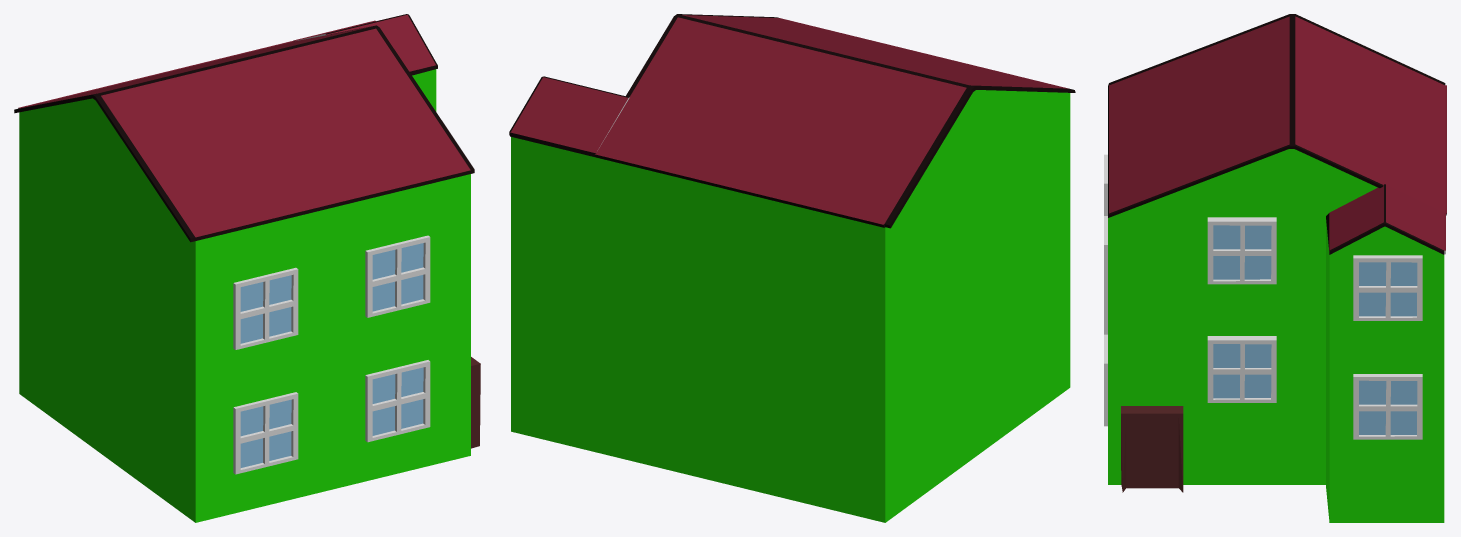
3 renders of one model, left to right at view 1: azimuth 30°, elevation 25°; view 2: azimuth 150°, elevation 25°; view 3: azimuth 270°, elevation 25°, orthographic. The views are drawn at different scales.
Parts seen in each view (by area): view 1: Cube, Cube.001, Cube.010, Cube.002; view 2: Cube; view 3: Cube, Cube.001, Cube.010, Cube.002.
Boxes of the visible parts, left/top/right/bottom form: Cube: left=14, top=14, right=474, bottom=522; Cube.001: left=233, top=235, right=430, bottom=349; Cube.010: left=233, top=360, right=430, bottom=474; Cube.002: left=471, top=357, right=480, bottom=448; Cube: left=509, top=14, right=1075, bottom=522; Cube: left=1108, top=14, right=1446, bottom=522; Cube.001: left=1104, top=154, right=1422, bottom=320; Cube.010: left=1104, top=307, right=1422, bottom=439; Cube.002: left=1121, top=406, right=1183, bottom=492.
Bounding box in the file's own units: 368 × 341 × 311.
